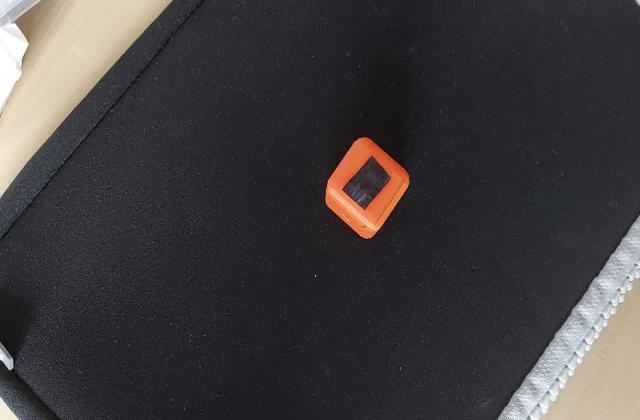black: (335, 158, 396, 212)
sticker: (322, 132, 412, 241)
